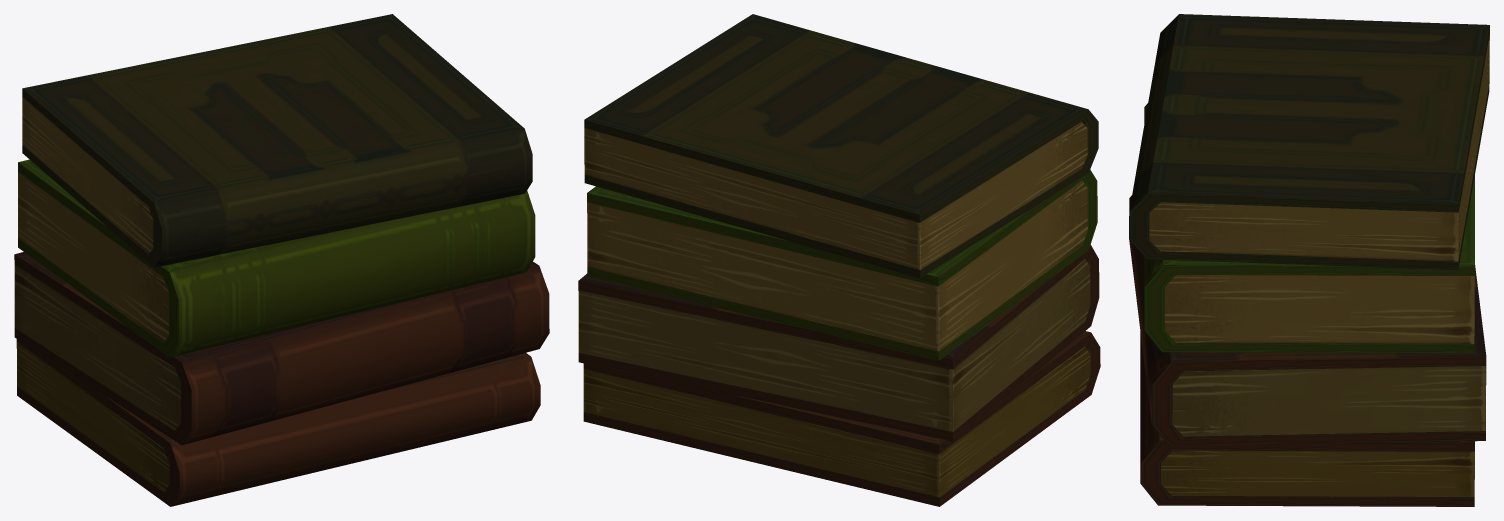
Rendered from Book_Stack_1.glb.
3 views of the same model, side by side, from view 1: azimuth 30°, elevation 25°; view 2: azimuth 150°, elevation 25°; view 3: azimuth 270°, elevation 25° (orthographic). The views are drawn at different scales.
Parts seen in each view (by area): view 1: Book_Stack_1; view 2: Book_Stack_1; view 3: Book_Stack_1.
Part boxes in pixels (box(x1,y1,x2,y2)): Book_Stack_1: box(14, 14, 549, 506); Book_Stack_1: box(578, 14, 1100, 506); Book_Stack_1: box(1129, 14, 1489, 506).
Bounding box in the file's own units: 0.2849 × 0.2137 × 0.2263.
1 material, 1 textured.
